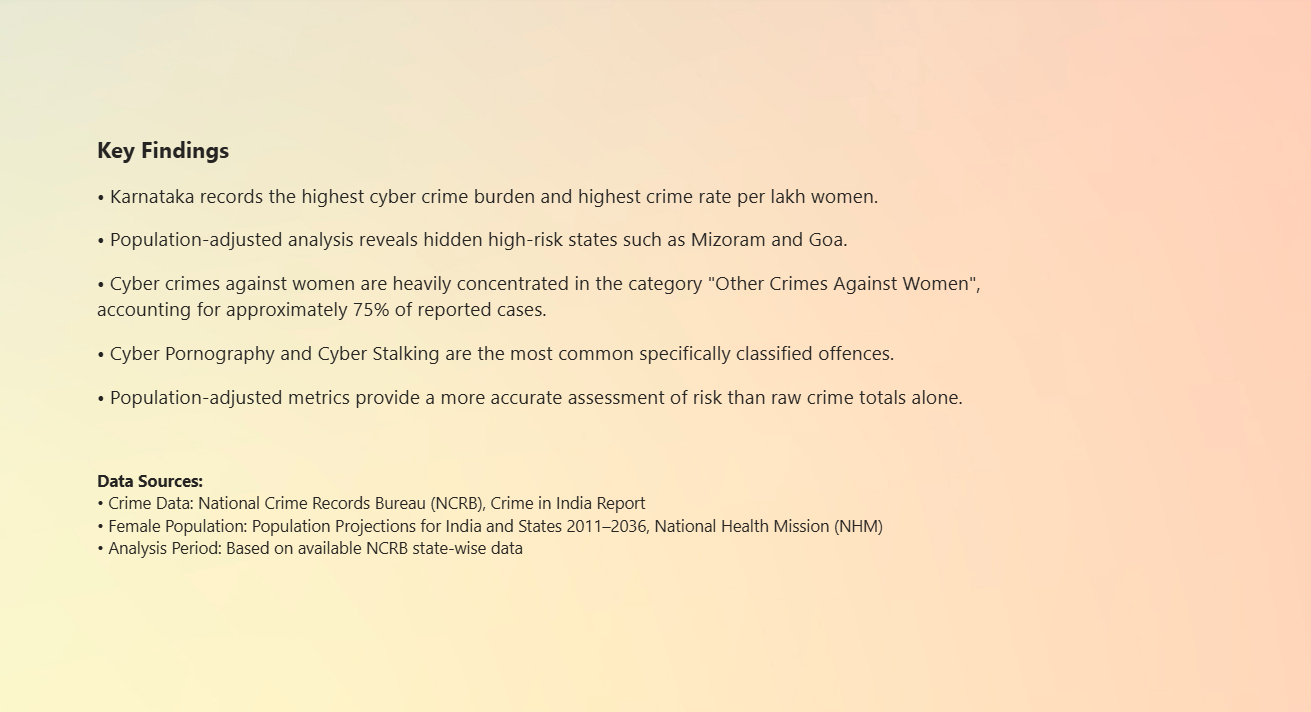

What the dashboard file says about the page in this screenshot:
{"tool":"powerbi","page":{"name":"Page 4","canvas":[1280,720],"ordinal":3},"visuals":[{"type":"textbox","box":[95.3,129.1,954.3,292],"z":0},{"type":"textbox","box":[95.3,452.4,772.1,103.8],"z":1}]}

Visuals, with their boxes on the page's 1280x720 design canvas (x1, y1, x2, y2). These are canvas units, not pixel positions in the 1311x712 screenshot, which may show the page scaled, cropped or inside an application window:
textbox: bbox=(95, 129, 1050, 421)
textbox: bbox=(95, 452, 867, 556)
